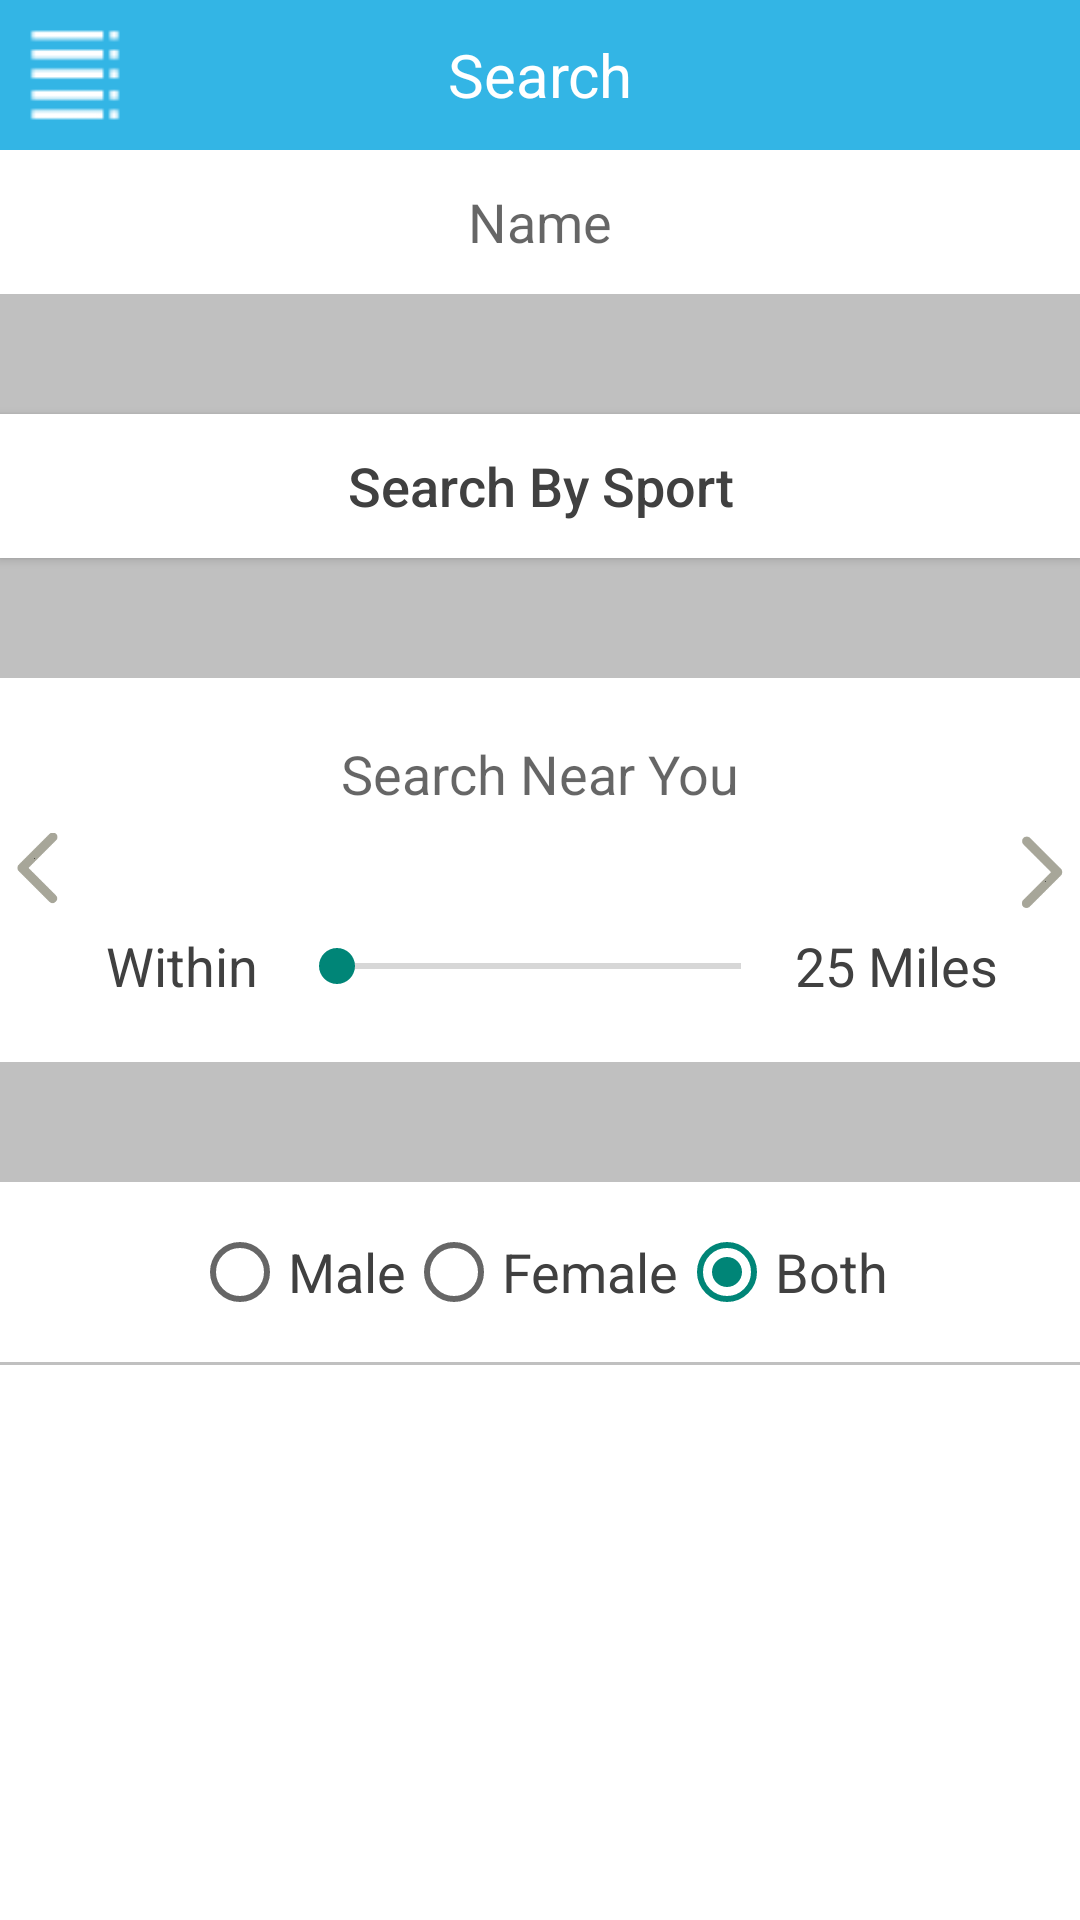

Screen size 1080x1920. Icon name, then its center in pixels as (x,y):
back: (37,868)
forward: (1042,872)
navigation: (75,75)
